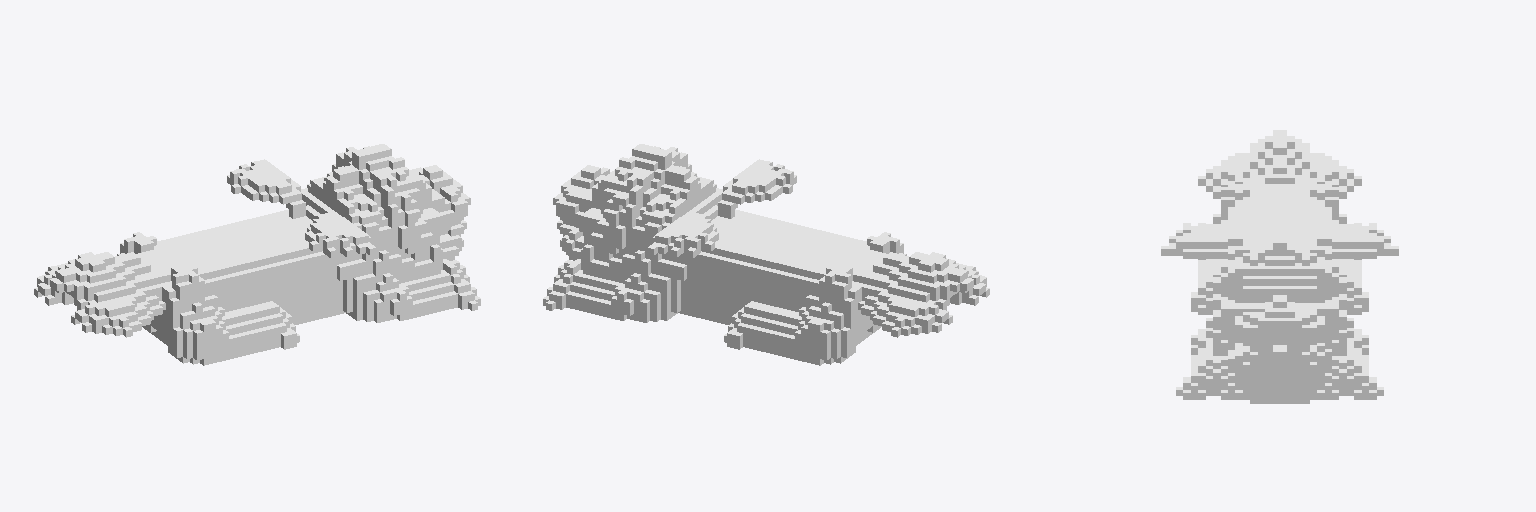
File: Grifo.obj
The picture shows the model from 3 angles: view 1: azimuth 30°, elevation 25°; view 2: azimuth 150°, elevation 25°; view 3: azimuth 270°, elevation 25°; orthographic projection.
Parts seen in each view (by area): view 1: object 1; view 2: object 1; view 3: object 1.
Boxes of the visible parts, box(x1,y1,x2,y2) form: object 1: box(34, 144, 480, 365); object 1: box(543, 144, 989, 365); object 1: box(1161, 130, 1398, 403).
Size of the model in its own units: 6.3 by 2.3 by 3.2.